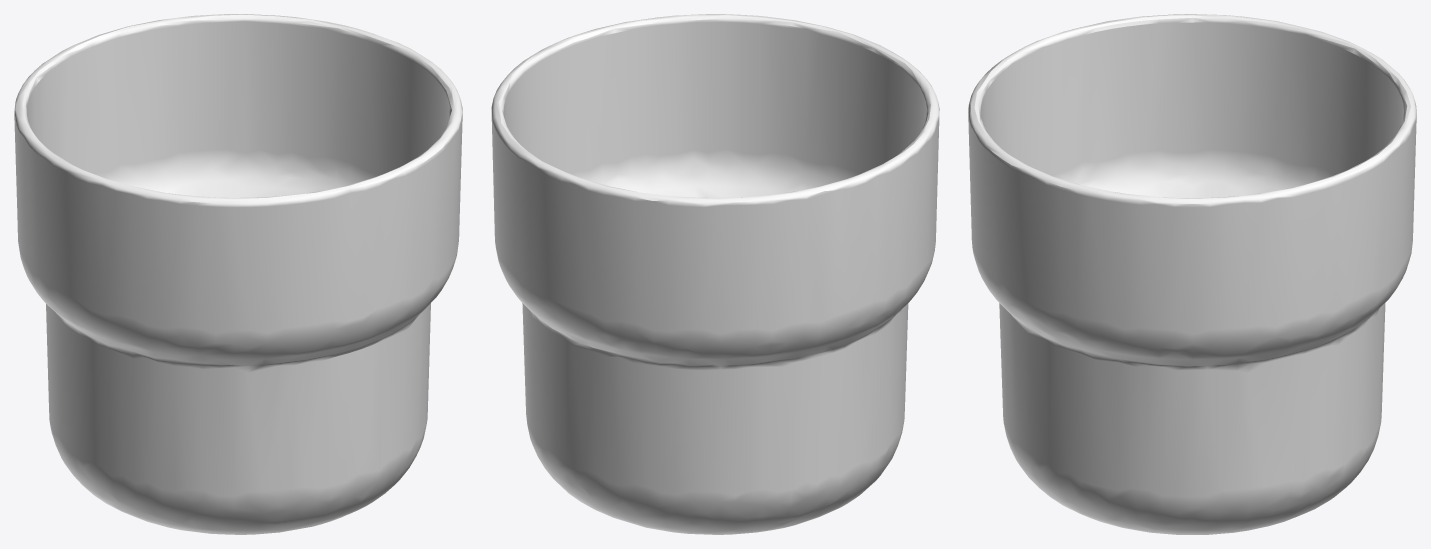
File: 01 - FÖRENLIG - 花盆，室內戶外用 白色，9 公分 IKEA 線上購物.glb
The picture shows the model from 3 angles, left to right: view 1: azimuth 30°, elevation 25°; view 2: azimuth 150°, elevation 25°; view 3: azimuth 270°, elevation 25°; orthographic projection.
Visible parts, largest first — view 1: ProcessedMeshNode; view 2: ProcessedMeshNode; view 3: ProcessedMeshNode.
Boxes of the visible parts, bbox=[...] form: ProcessedMeshNode: bbox=[14, 14, 462, 534]; ProcessedMeshNode: bbox=[491, 14, 939, 534]; ProcessedMeshNode: bbox=[968, 14, 1416, 534].
Size of the model in its own units: 0.1039 by 0.095 by 0.1039.
1 material, 1 textured.
